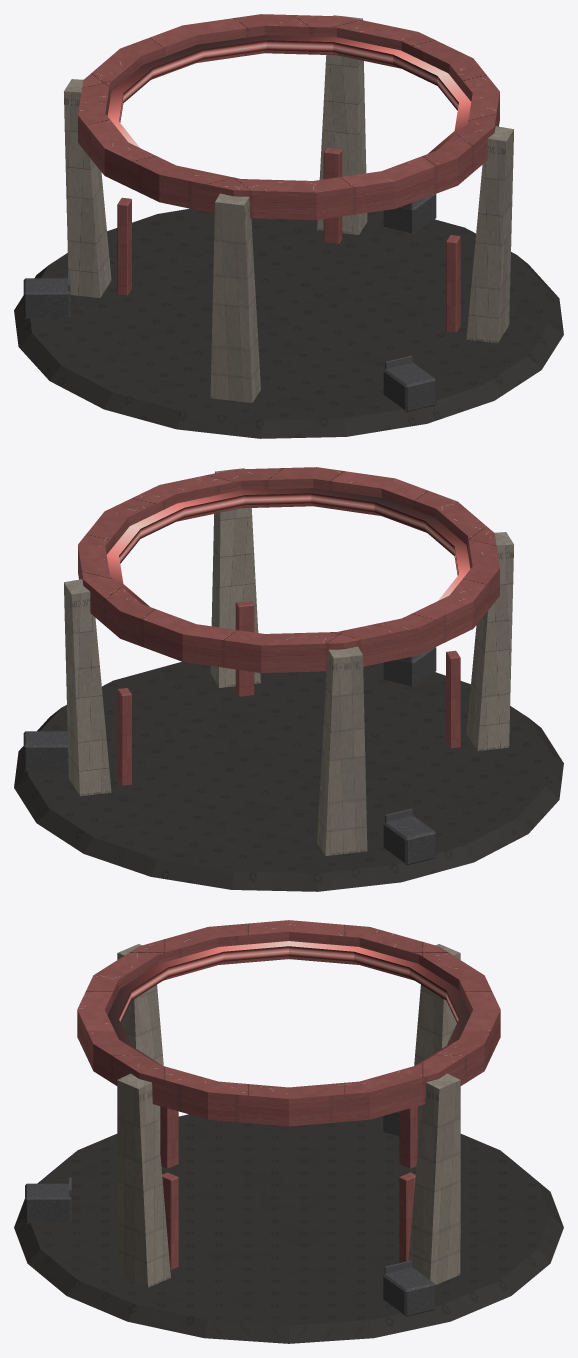
The model's file is warpgate_mra.obj.
3 renders of one model, top to bottom at view 1: azimuth 30°, elevation 25°; view 2: azimuth 150°, elevation 25°; view 3: azimuth 270°, elevation 25°, orthographic.
Parts seen in each view (by area): view 1: warpgate_mra; view 2: warpgate_mra; view 3: warpgate_mra.
Part boxes in pixels (left/top/right/bottom): warpgate_mra: left=14, top=14, right=563, bottom=438; warpgate_mra: left=14, top=467, right=563, bottom=891; warpgate_mra: left=14, top=920, right=563, bottom=1343.
Size of the model in its own units: 40 by 17.55 by 40.
Materials: 1 (1 with a texture image).
